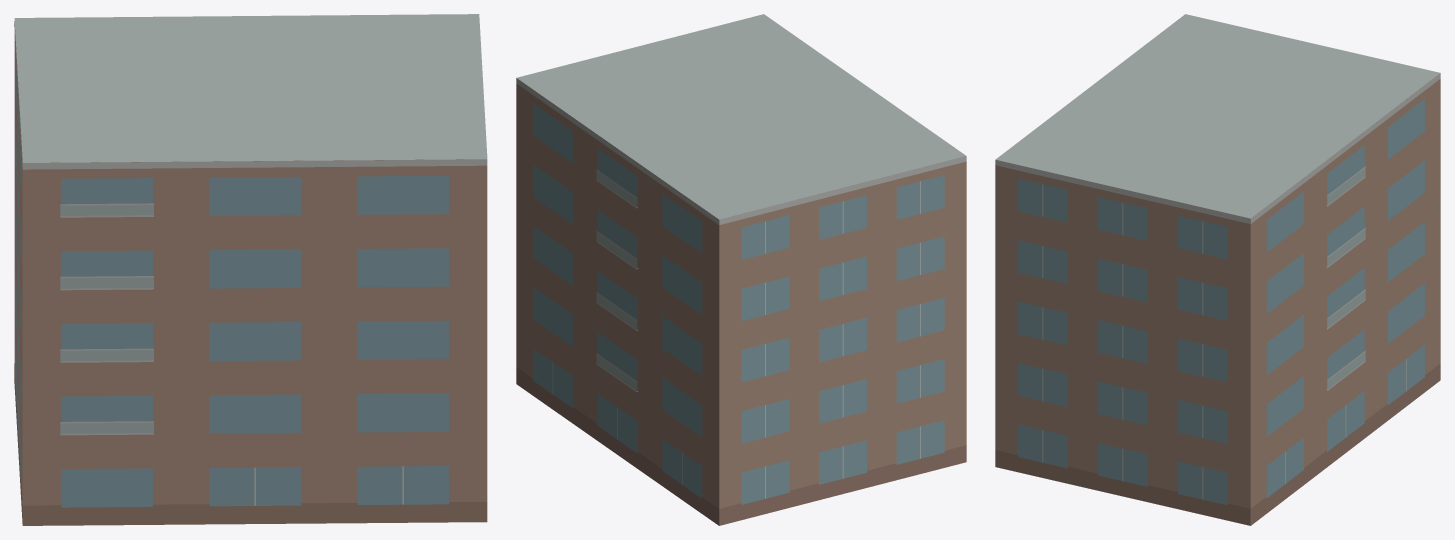
Rendered from survey-upis-32658301.glb.
The picture shows the model from 3 angles, left to right: view 1: azimuth 30°, elevation 25°; view 2: azimuth 150°, elevation 25°; view 3: azimuth 270°, elevation 25°; orthographic projection. The views are drawn at different scales.
Visible parts, largest first — view 1: survey-upis-32658301.tmp; view 2: survey-upis-32658301.tmp; view 3: survey-upis-32658301.tmp.
Part boxes in pixels (left/top/right/bottom): survey-upis-32658301.tmp: left=14, top=14, right=487, bottom=525; survey-upis-32658301.tmp: left=516, top=14, right=966, bottom=525; survey-upis-32658301.tmp: left=995, top=14, right=1440, bottom=525.
Bounding box in the file's own units: 19.35 × 13.55 × 17.81.
